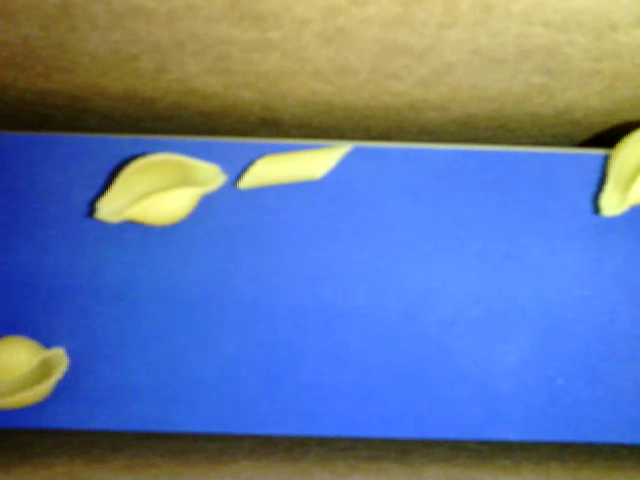penne: (235, 144, 355, 189)
shell: (92, 152, 228, 225), (1, 333, 70, 409), (596, 129, 639, 218)
